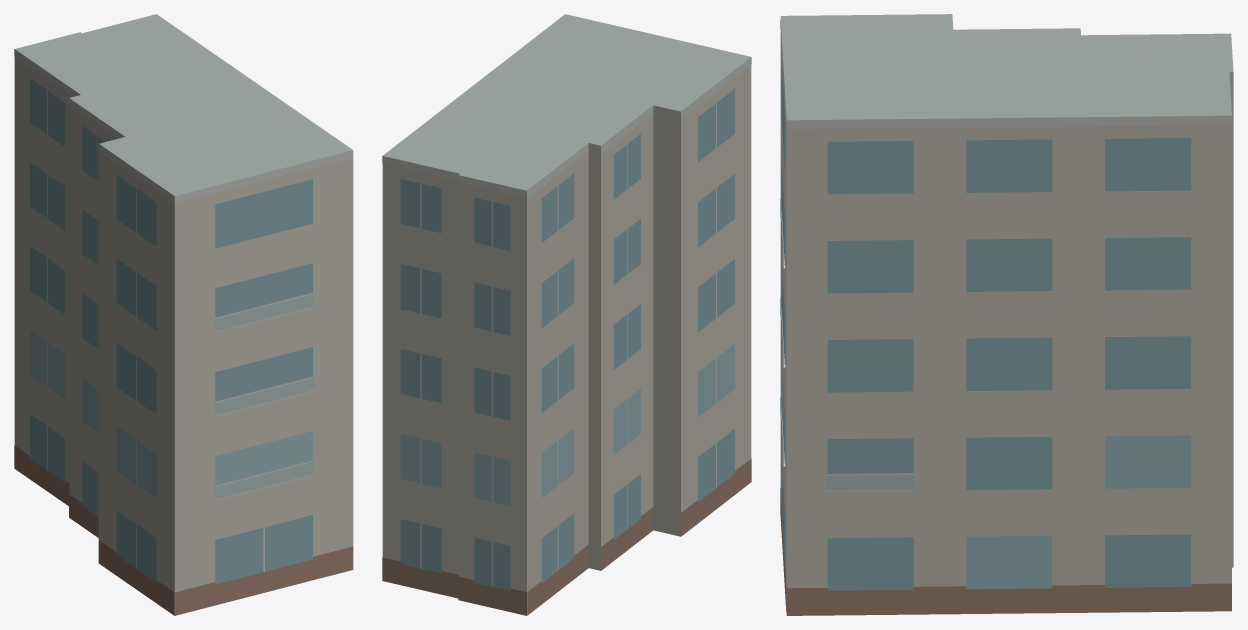
The model's file is survey-upis-32911640.glb.
3 renders of one model, left to right at view 1: azimuth 30°, elevation 25°; view 2: azimuth 150°, elevation 25°; view 3: azimuth 270°, elevation 25°, orthographic. The views are drawn at different scales.
Visible parts, largest first — view 1: survey-upis-32911640.tmp; view 2: survey-upis-32911640.tmp; view 3: survey-upis-32911640.tmp.
Part boxes in pixels (left/top/right/bottom): survey-upis-32911640.tmp: left=14, top=14, right=353, bottom=615; survey-upis-32911640.tmp: left=382, top=14, right=751, bottom=615; survey-upis-32911640.tmp: left=780, top=14, right=1233, bottom=615.
Bounding box in the file's own units: 6.09 × 13.2 × 10.95.
